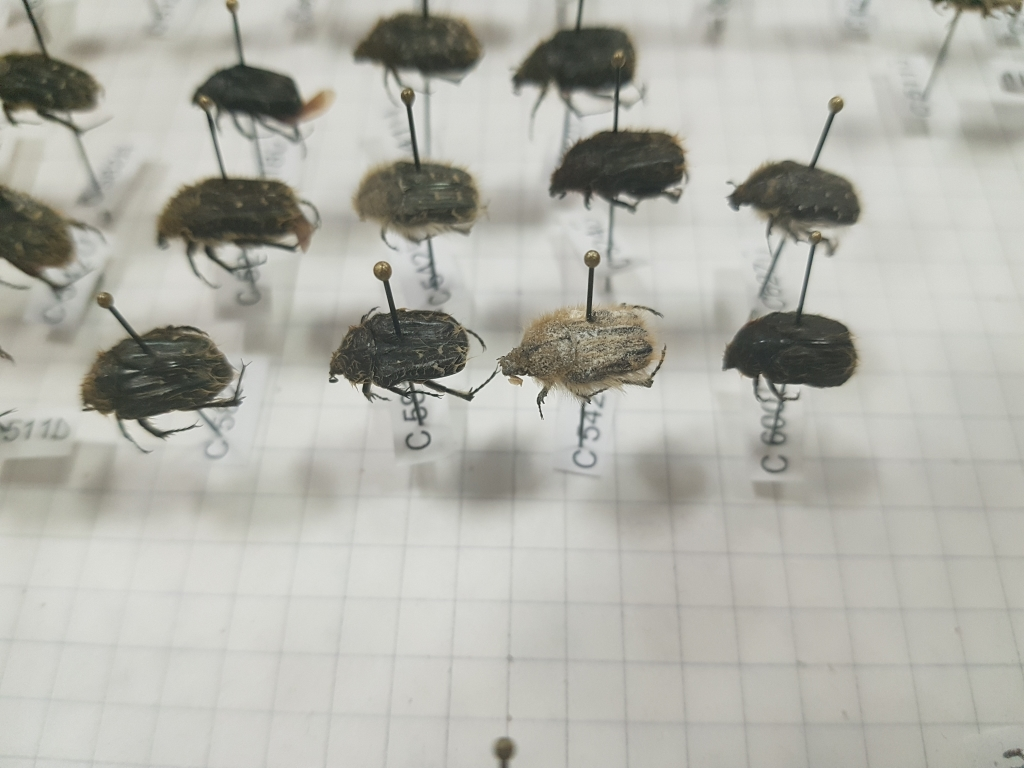Tropinota_hirta: (492, 296, 674, 422)
